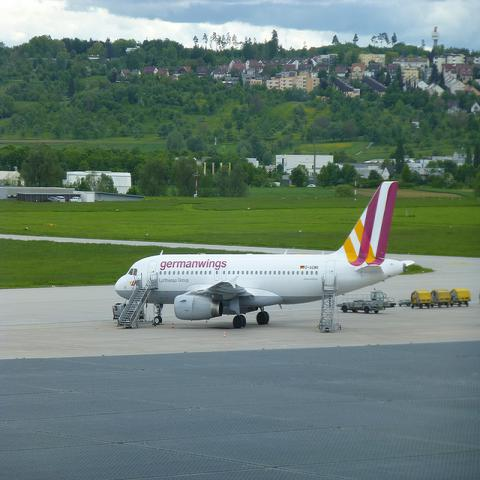truck: (336, 290, 386, 314)
